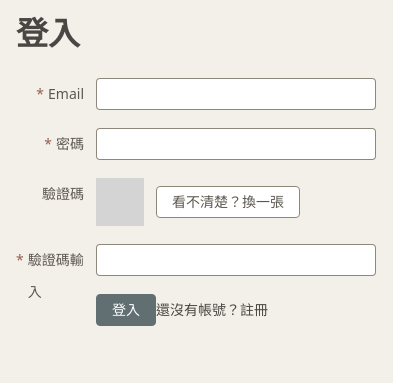
Test: LoginPage › CAPTCHA-BW-002：驗證碼錯誤時顯示提示且自動換發新驗證碼
Type "user@example.com" into the field labelled "Email" at (236, 94), box x1=107 y1=79 x2=365 y2=109
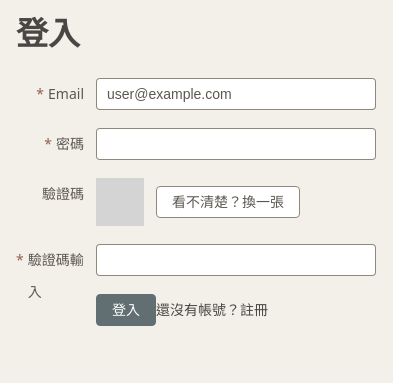
Type "Password123" into the password field labelled "密碼" at (236, 144), box x1=107 y1=129 x2=365 y2=159
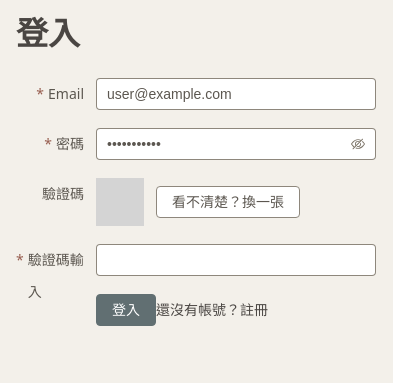
Type "TEST" into the field labelled "驗證碼輸入" at (236, 260), box x1=107 y1=245 x2=365 y2=275
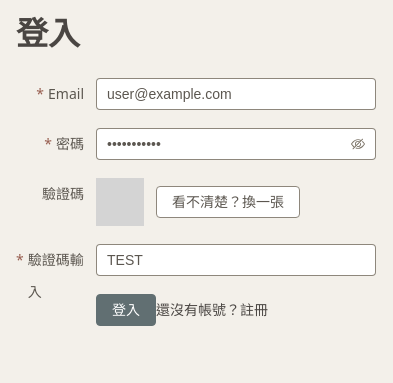
Submit the form, box x1=16 y1=78 x2=376 y2=326
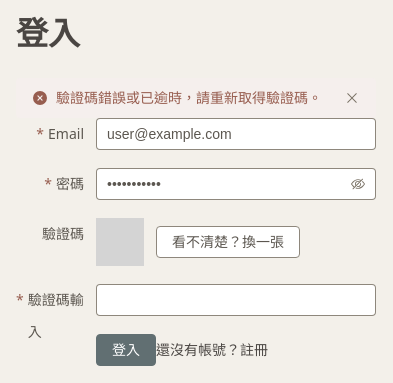
expect the text "驗證碼錯誤或已逾時，請重新取得驗證碼。" is shown: met, box x1=56 y1=86 x2=322 y2=110
